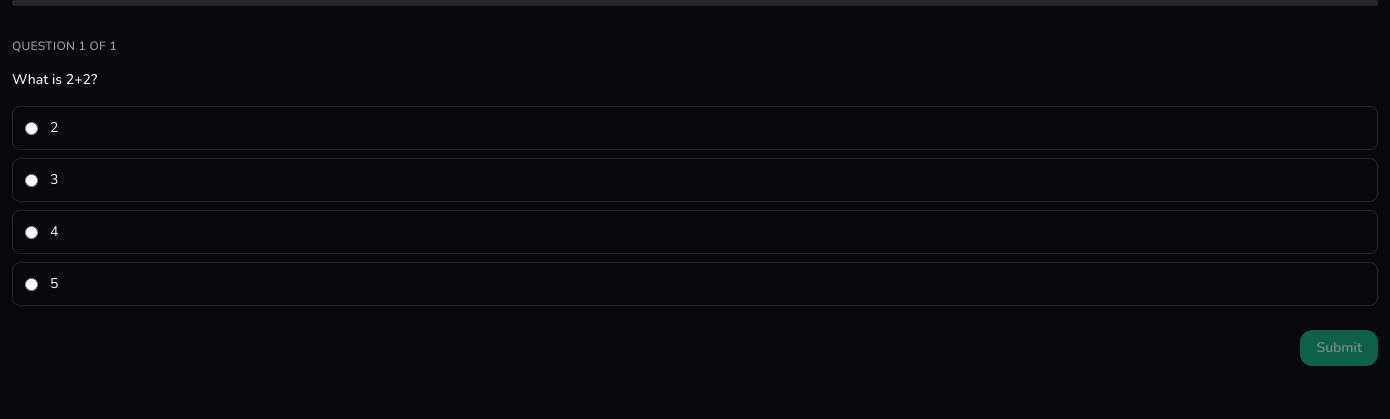
PracticeProblemRunner › shows correct feedback after selecting correct answer
The width and height of the screenshot is (1390, 419).
Click the radio button labelled "4": (32, 232) left=25, top=226, right=38, bottom=238
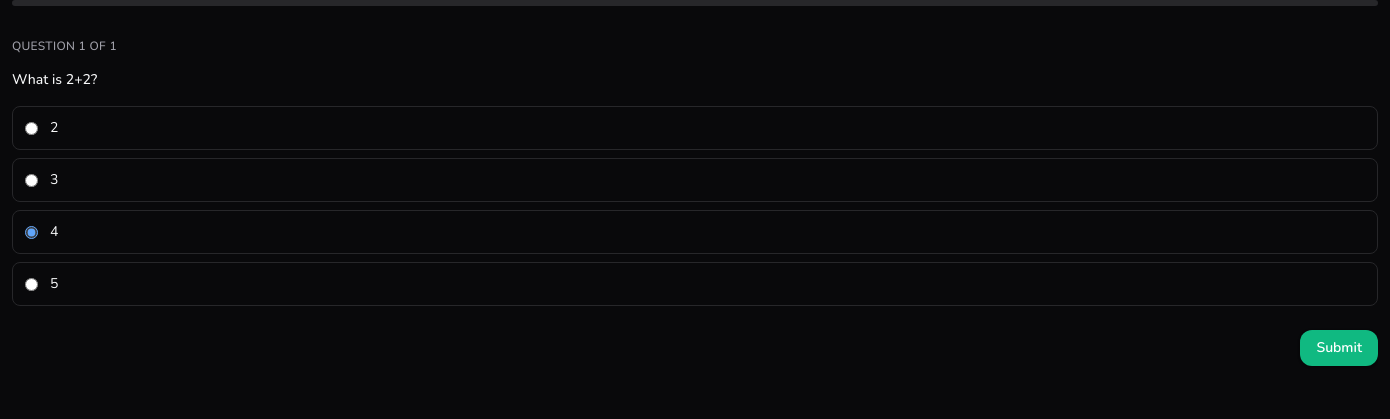
Click the button "Submit": (1339, 348) left=1300, top=330, right=1378, bottom=366
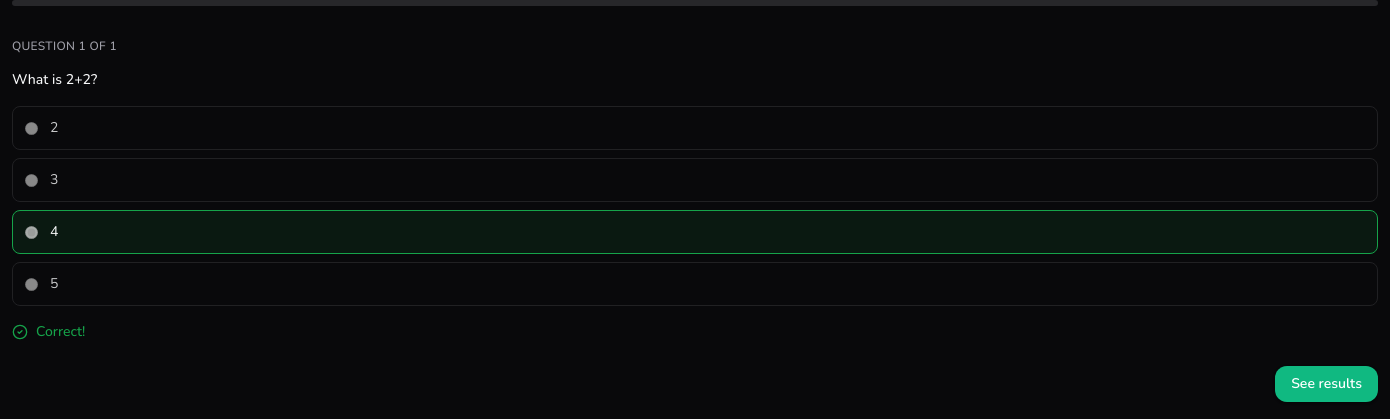
Expected: the text "Correct!" is shown, left=12, top=322, right=85, bottom=341
